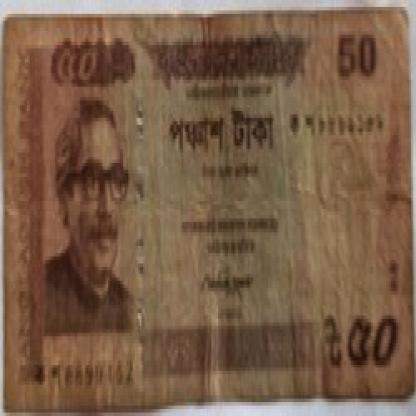Fifty taka: (318, 312, 412, 392), (53, 35, 102, 104)
